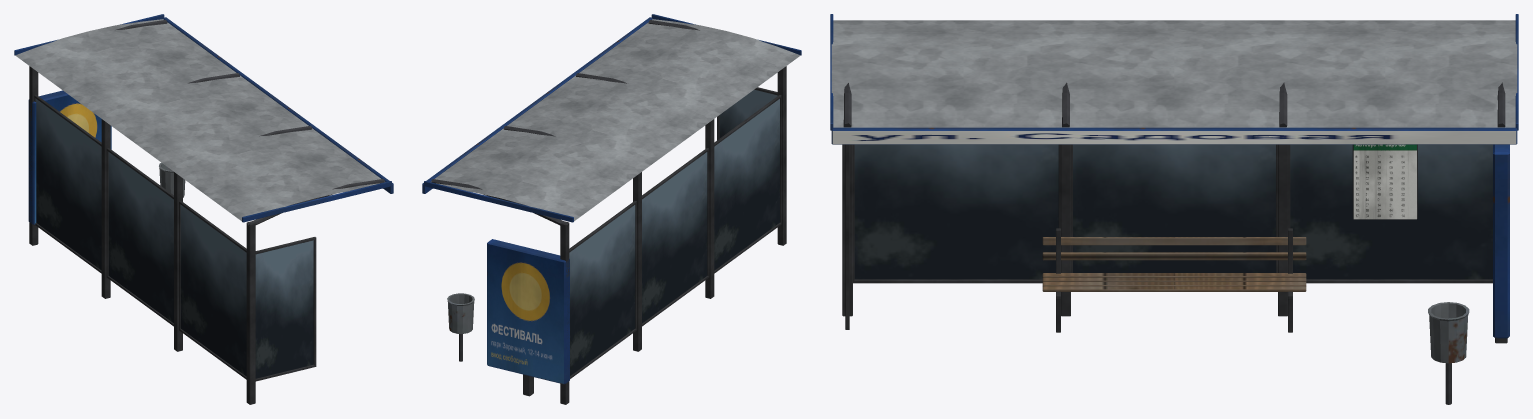
Rendered from pr_bstop.glb.
The picture shows the model from 3 angles, left to right: view 1: azimuth 30°, elevation 25°; view 2: azimuth 150°, elevation 25°; view 3: azimuth 270°, elevation 25°; orthographic projection. The views are drawn at different scales.
Visible parts, largest first — view 1: pr_bstop; view 2: pr_bstop; view 3: pr_bstop.
Boxes of the visible parts, x1,y1,x2,y2 form: pr_bstop: [14, 14, 393, 404]; pr_bstop: [422, 14, 801, 404]; pr_bstop: [830, 14, 1518, 404].
Bounding box in the file's own units: 2.5 × 3.07 × 6.53.
Materials: 1 (1 with a texture image).
